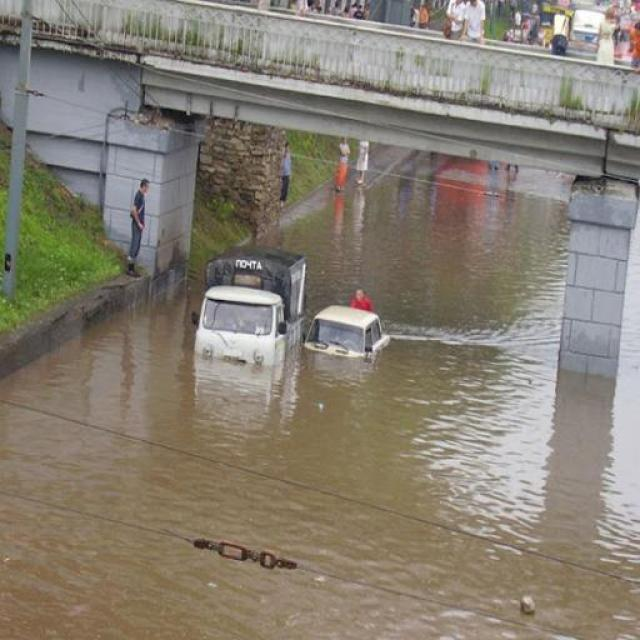puddle: (7, 387, 640, 640), (398, 309, 551, 529), (371, 177, 554, 331), (307, 203, 433, 287)
